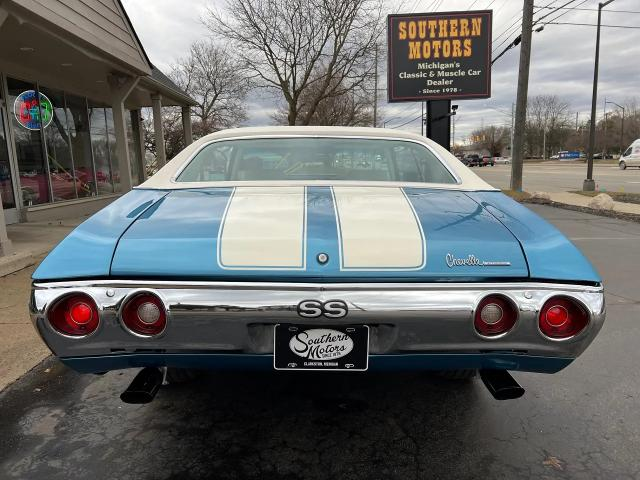chevelle-1972: (28, 126, 606, 403)
